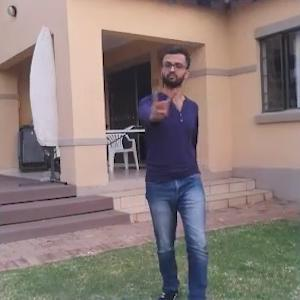takeoff-hand: (142, 80, 182, 124)
